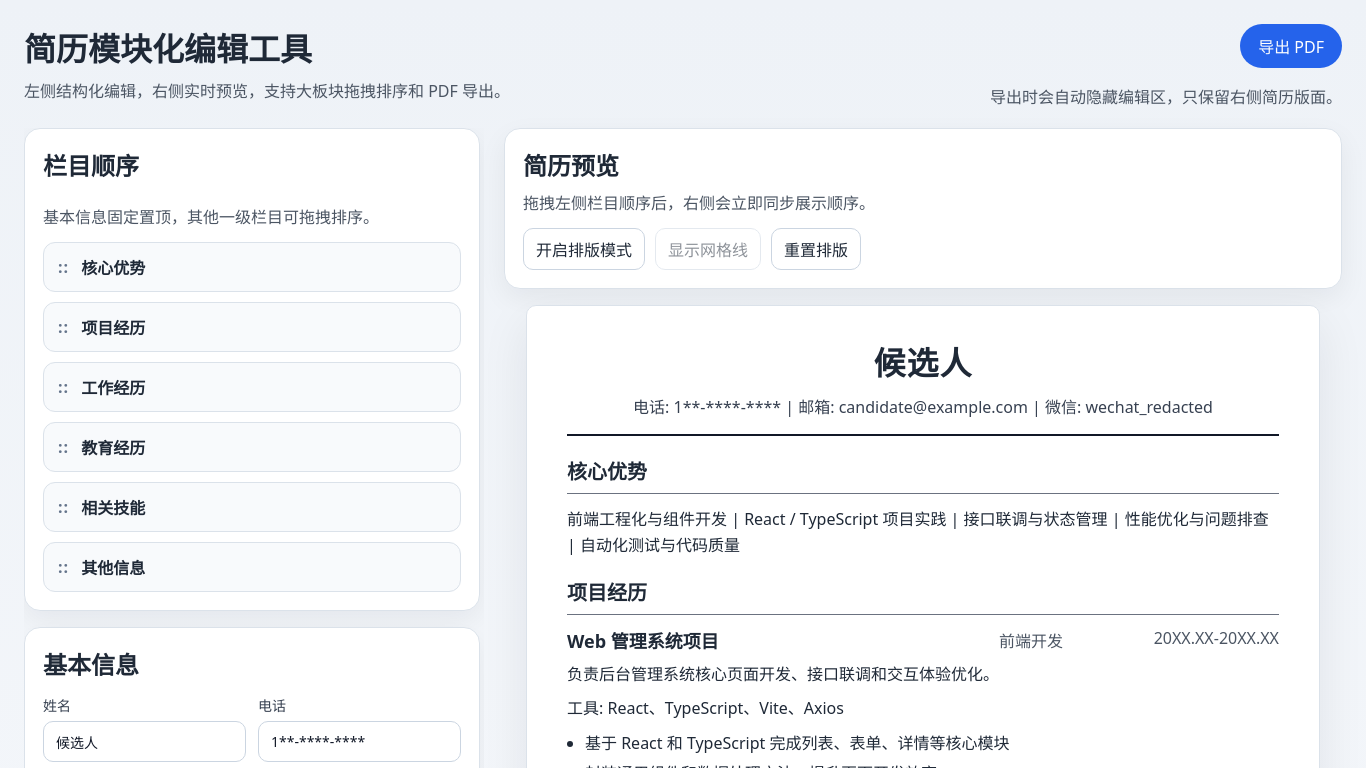
Test case: App › syncs basic info changes into the preview
This screenshot has width=1366, height=768.
Replace the text in the field labelled "姓名" with "王敏": [144, 742] box [43,721,246,762]
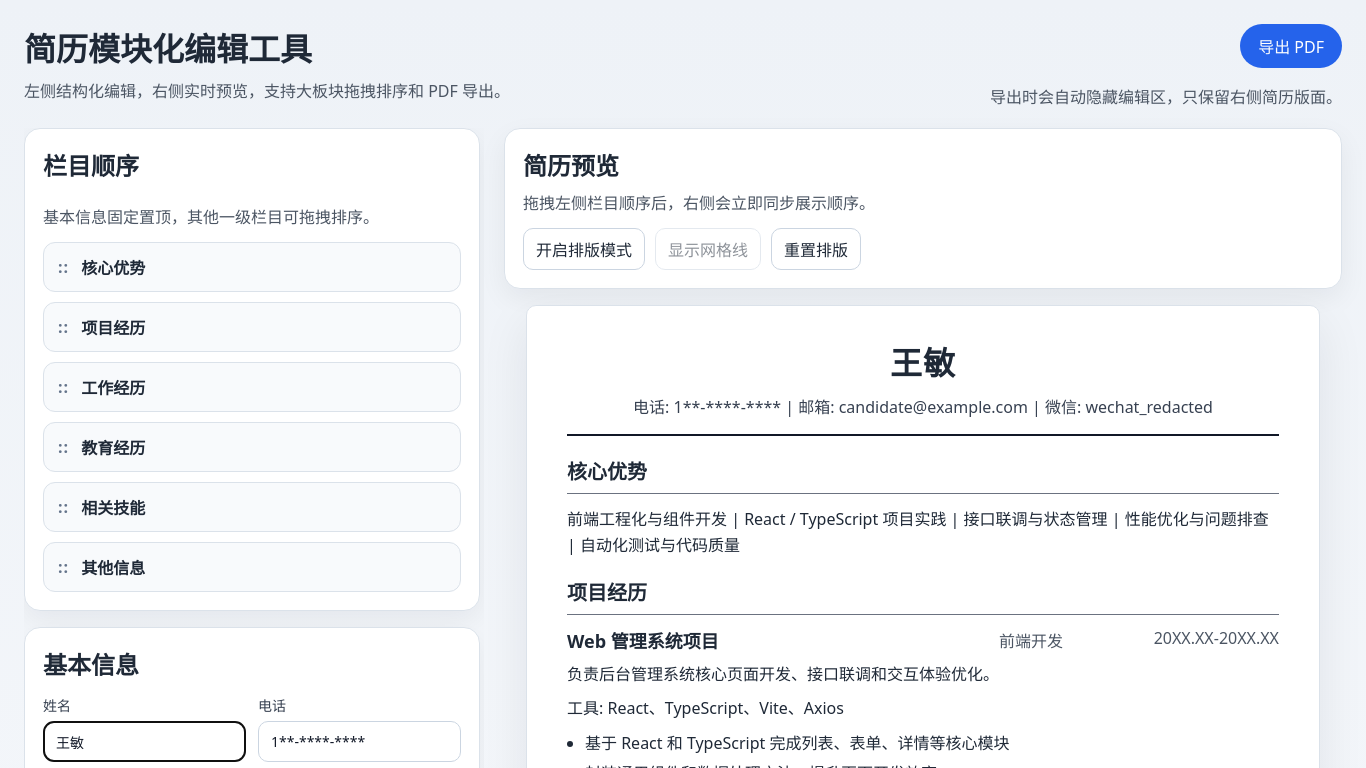
Now the heading "王敏" is shown, box [890,341,956,384]
